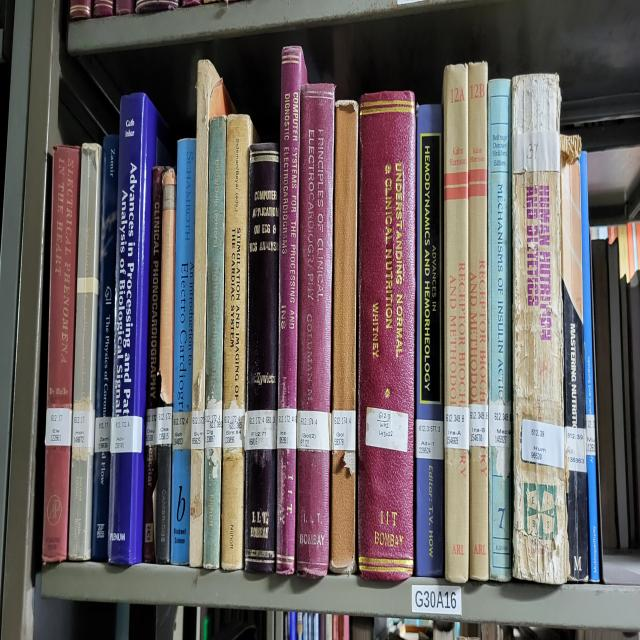Book: (511, 76, 569, 584), (358, 92, 416, 582), (108, 92, 168, 565), (190, 60, 234, 568), (296, 84, 335, 576), (276, 46, 308, 574), (42, 146, 80, 563), (221, 114, 255, 571), (244, 143, 279, 574), (442, 65, 470, 584), (330, 100, 359, 574), (415, 106, 444, 576), (69, 143, 101, 560), (560, 135, 589, 582), (91, 135, 119, 560), (488, 78, 511, 582), (170, 138, 196, 563), (468, 62, 489, 582), (204, 116, 226, 568), (580, 152, 600, 582), (144, 165, 165, 563), (155, 168, 176, 563)
Label: (521, 419, 565, 468), (365, 406, 409, 452), (298, 409, 331, 452), (245, 409, 276, 452), (416, 419, 444, 460), (110, 417, 142, 452), (444, 406, 469, 449), (331, 409, 356, 452), (565, 425, 586, 473), (45, 409, 72, 446), (489, 403, 511, 446), (222, 409, 244, 449), (72, 411, 95, 449), (469, 403, 489, 446), (172, 411, 191, 449), (278, 409, 296, 449), (205, 409, 222, 449), (156, 406, 172, 446), (191, 409, 205, 449), (95, 417, 111, 452), (586, 414, 596, 457), (145, 409, 156, 446)
